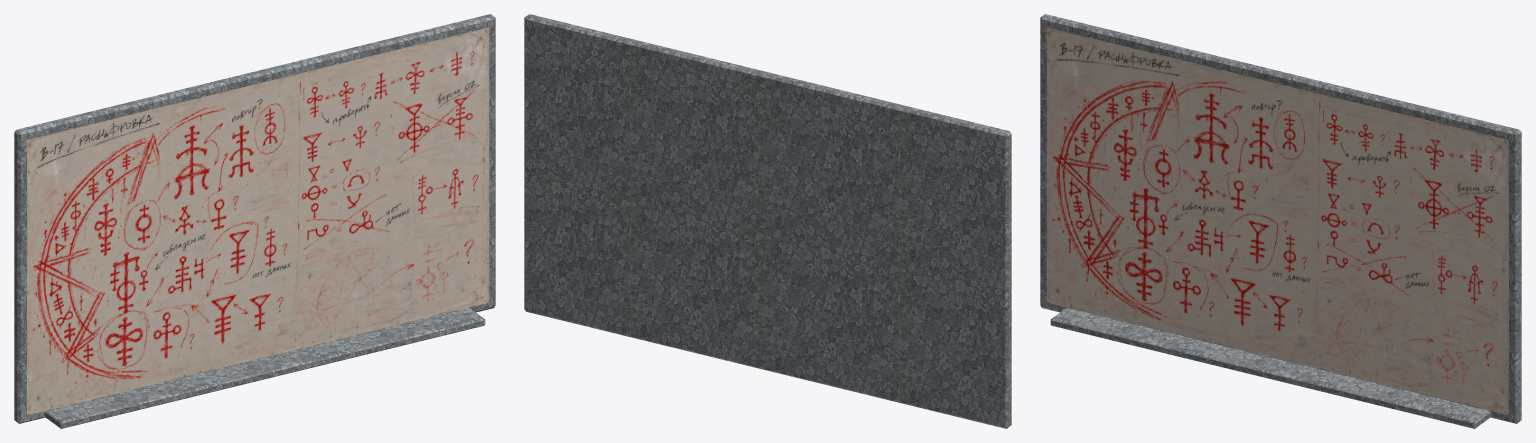
File: occult_research_board.glb
The picture shows the model from 3 angles, left to right: view 1: azimuth 30°, elevation 25°; view 2: azimuth 150°, elevation 25°; view 3: azimuth 330°, elevation 25°; orthographic projection.
Parts seen in each view (by area): view 1: Procedure surface, Oxidized aluminum board frame; view 2: Oxidized aluminum board frame; view 3: Procedure surface, Oxidized aluminum board frame.
Part boxes in pixels (x1,y1,x2,y2): Procedure surface: (27,27,489,415); Oxidized aluminum board frame: (14,14,495,428); Oxidized aluminum board frame: (524,14,1011,428); Procedure surface: (1046,27,1508,415); Oxidized aluminum board frame: (1040,14,1521,428).
Size of the model in its own units: 1.8 by 1.05 by 0.1375.
Materials: 2 (2 with a texture image).
